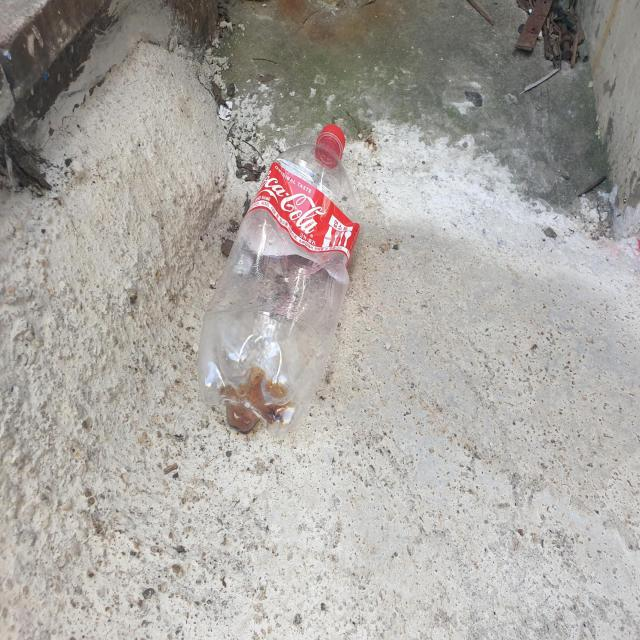plastic: (197, 124, 360, 437)
